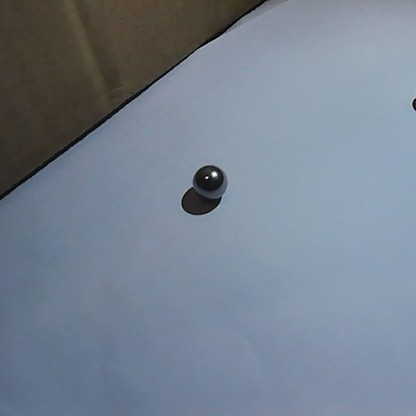ironball: (189, 161, 227, 202)
